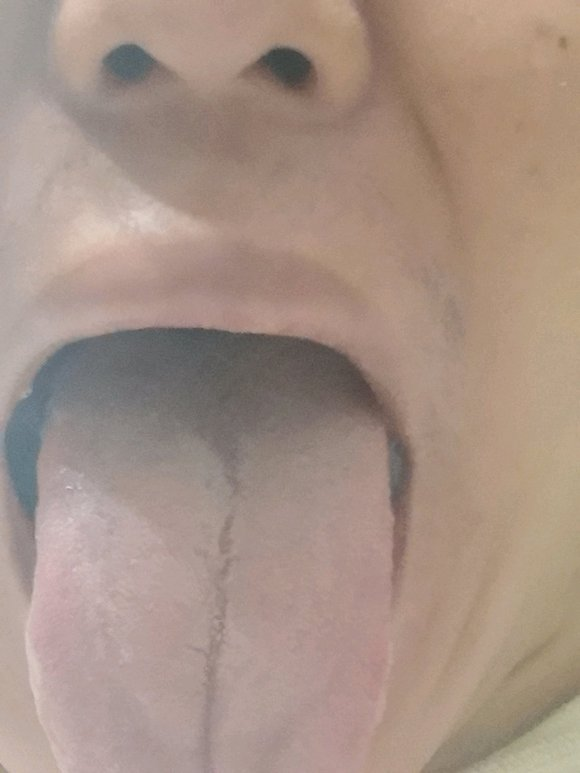baitaishe: (24, 342, 392, 773)
liewenshe: (195, 509, 236, 773)
